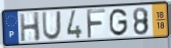4: (66, 9, 84, 41)
8: (132, 7, 150, 36)
F: (86, 8, 107, 40)
G: (109, 7, 129, 38)
H: (18, 11, 42, 43)
U: (41, 10, 63, 42)
